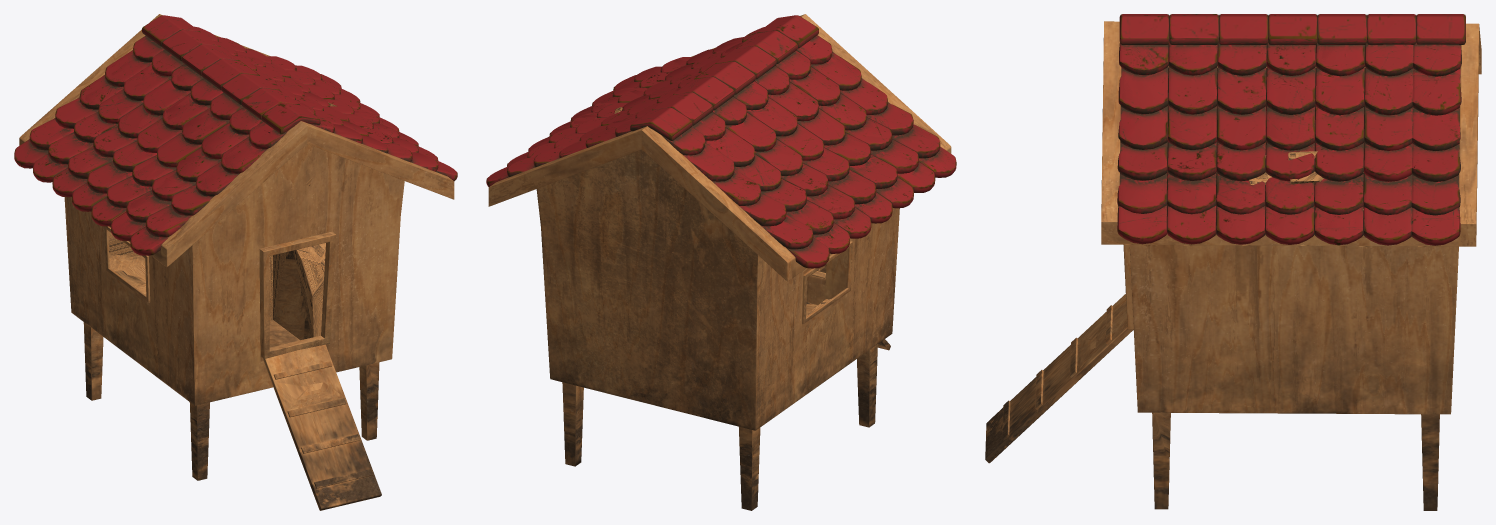
Rendered from TowerNew2.fbx.
The picture shows the model from 3 angles, left to right: view 1: azimuth 30°, elevation 25°; view 2: azimuth 150°, elevation 25°; view 3: azimuth 270°, elevation 25°; orthographic projection. The views are drawn at different scales.
Visible parts, largest first — view 1: chicken_coop_Geo, chicken_coop_Geo_cell.069, chicken_coop_Geo_cell.173, chicken_coop_Geo_cell.163, chicken_coop_Geo_cell.084, chicken_coop_Geo_cell.027, chicken_coop_Geo_cell.051, chicken_coop_Geo_cell.128, chicken_coop_Geo_cell.005, chicken_coop_Geo_cell.110, chicken_coop_Geo_cell.197, chicken_coop_Geo_cell.129 (+10 smaller); view 2: chicken_coop_Geo, chicken_coop_Geo_cell.179, chicken_coop_Geo_cell.117, chicken_coop_Geo_cell.039, chicken_coop_Geo_cell.195, chicken_coop_Geo_cell.084, chicken_coop_Geo_cell.051, chicken_coop_Geo_cell.079, chicken_coop_Geo_cell.276, chicken_coop_Geo_cell.197, chicken_coop_Geo_cell.256, chicken_coop_Geo_cell.230 (+9 smaller); view 3: chicken_coop_Geo, chicken_coop_Geo_cell.039, chicken_coop_Geo_cell.069, chicken_coop_Geo_cell.027, chicken_coop_Geo_cell.096, chicken_coop_Geo_cell.173, chicken_coop_Geo_cell.215, chicken_coop_Geo_cell.236, chicken_coop_Geo_cell.186, chicken_coop_Geo_cell.194, chicken_coop_Geo_cell.233, chicken_coop_Geo_cell.254 (+9 smaller).
Boxes of the visible parts, box(x1,y1,x2,y2) form: chicken_coop_Geo: box(14, 14, 457, 510); chicken_coop_Geo_cell.069: box(273, 243, 325, 340); chicken_coop_Geo_cell.173: box(263, 344, 381, 508); chicken_coop_Geo_cell.163: box(323, 204, 398, 290); chicken_coop_Geo_cell.084: box(78, 254, 146, 353); chicken_coop_Geo_cell.027: box(352, 260, 397, 345); chicken_coop_Geo_cell.051: box(129, 323, 187, 394); chicken_coop_Geo_cell.128: box(293, 430, 337, 506); chicken_coop_Geo_cell.005: box(321, 286, 363, 337); chicken_coop_Geo_cell.110: box(309, 382, 352, 423); chicken_coop_Geo_cell.197: box(201, 122, 249, 155); chicken_coop_Geo_cell.129: box(325, 462, 379, 504); chicken_coop_Geo: box(486, 14, 956, 510); chicken_coop_Geo_cell.179: box(593, 257, 771, 394); chicken_coop_Geo_cell.117: box(598, 307, 700, 415); chicken_coop_Geo_cell.039: box(544, 288, 600, 391); chicken_coop_Geo_cell.195: box(536, 187, 614, 291); chicken_coop_Geo_cell.084: box(768, 314, 828, 409); chicken_coop_Geo_cell.051: box(820, 297, 886, 384); chicken_coop_Geo_cell.079: box(700, 368, 778, 430); chicken_coop_Geo_cell.276: box(725, 260, 778, 322); chicken_coop_Geo_cell.197: box(789, 67, 839, 105); chicken_coop_Geo_cell.256: box(768, 82, 818, 121); chicken_coop_Geo_cell.230: box(857, 344, 877, 427); chicken_coop_Geo: box(986, 14, 1481, 510); chicken_coop_Geo_cell.039: box(1345, 308, 1455, 414); chicken_coop_Geo_cell.069: box(1213, 308, 1345, 413); chicken_coop_Geo_cell.027: box(1132, 289, 1239, 386); chicken_coop_Geo_cell.096: box(1391, 246, 1458, 309); chicken_coop_Geo_cell.173: box(985, 294, 1133, 462); chicken_coop_Geo_cell.215: box(1119, 105, 1168, 149); chicken_coop_Geo_cell.236: box(1168, 106, 1216, 149); chicken_coop_Geo_cell.186: box(1266, 105, 1315, 149); chicken_coop_Geo_cell.194: box(1118, 172, 1167, 213); chicken_coop_Geo_cell.233: box(1122, 67, 1168, 112); chicken_coop_Geo_cell.254: box(1169, 172, 1216, 214).
Size of the model in its own units: 18813 by 19766 by 20278.
